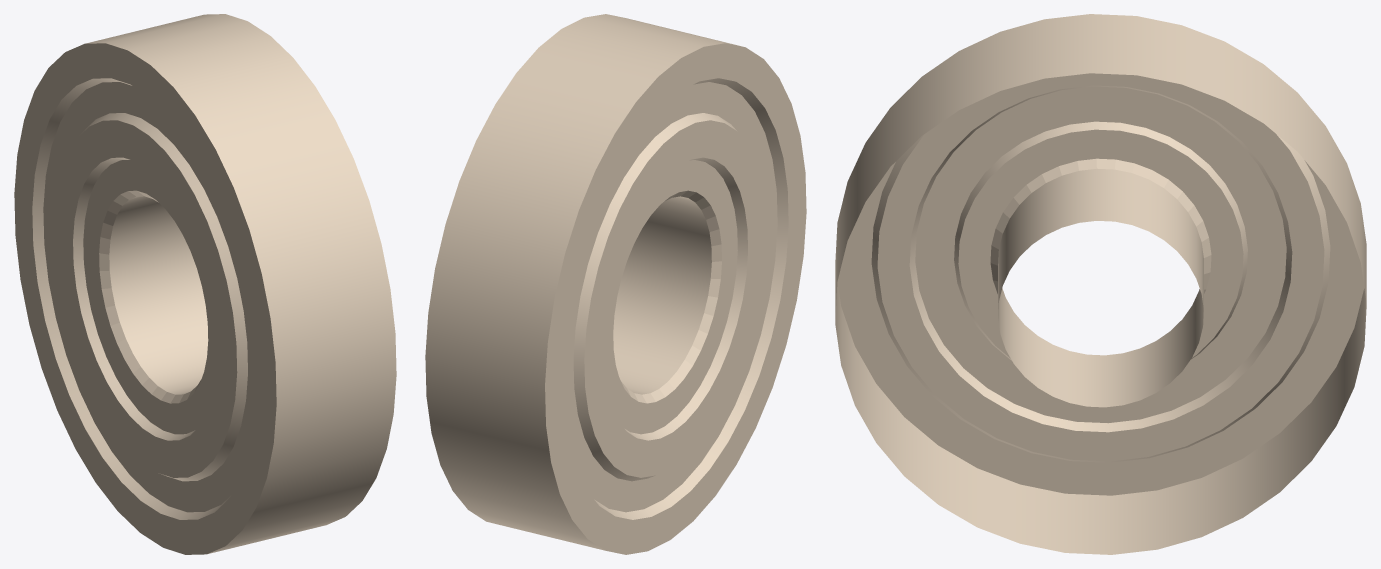
The model's file is BC_WindowDeco_A_02.fbx.
The picture shows the model from 3 angles, left to right: view 1: azimuth 30°, elevation 25°; view 2: azimuth 150°, elevation 25°; view 3: azimuth 270°, elevation 25°; orthographic projection.
Visible parts, largest first — view 1: BC_WindowDeco_A_02; view 2: BC_WindowDeco_A_02; view 3: BC_WindowDeco_A_02.
Boxes of the visible parts, x1,y1,x2,y2 form: BC_WindowDeco_A_02: (14, 14, 396, 554); BC_WindowDeco_A_02: (425, 14, 806, 554); BC_WindowDeco_A_02: (835, 14, 1366, 554).
Size of the model in its own units: 33.61 by 127 by 127.
